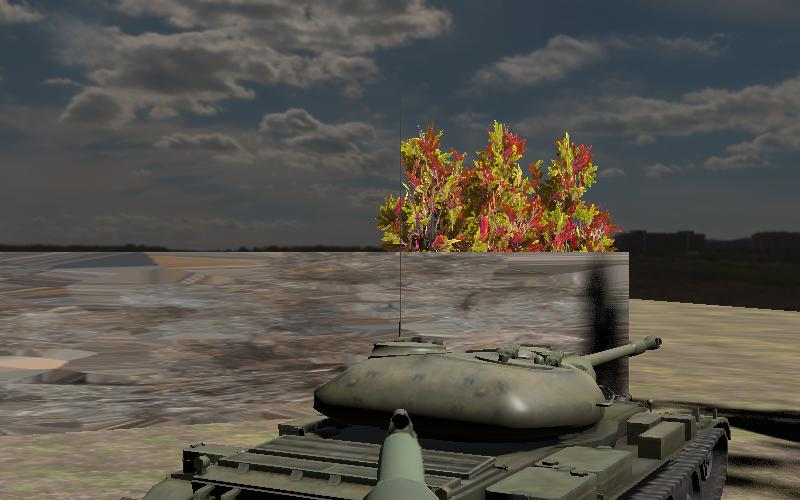Tank: (177, 332, 726, 500)
